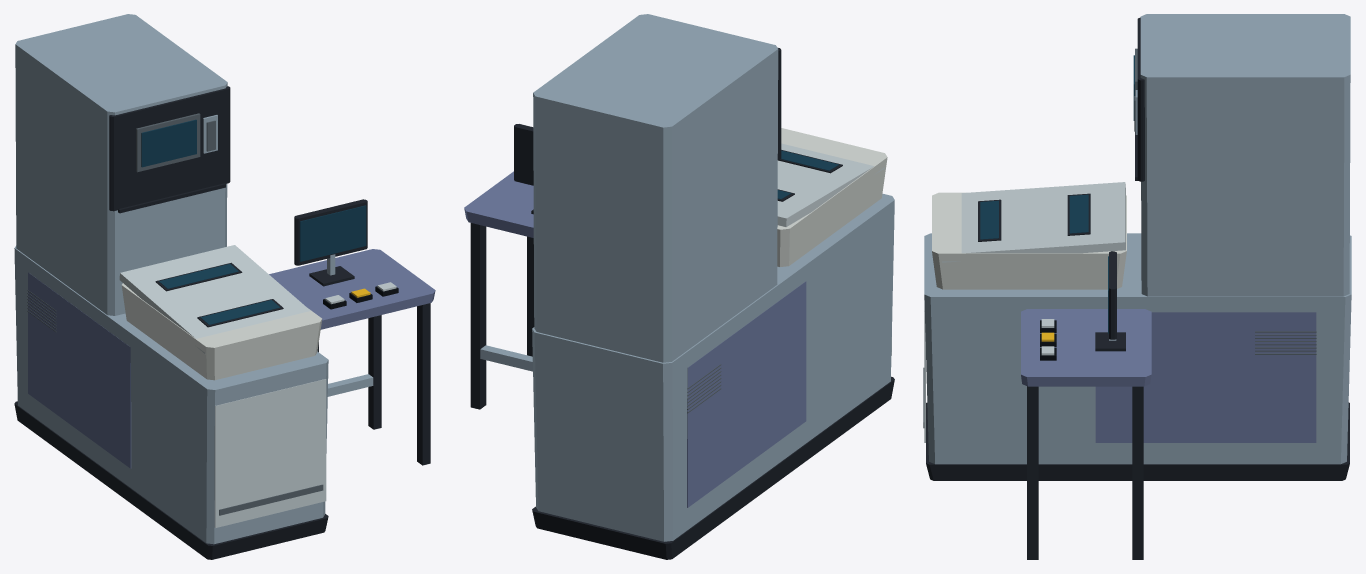
File: disco-dag810.glb
3 views of the same model, side by side, from view 1: azimuth 30°, elevation 25°; view 2: azimuth 150°, elevation 25°; view 3: azimuth 270°, elevation 25° (orthographic). The views are drawn at different scales.
Visible parts, largest first — view 1: machine_body, rear_cabinet, fixed_guard, inactive_fascia, desk, machine_base, drawing_screen; view 2: rear_cabinet, machine_body, fixed_guard, desk, machine_base, drawing_screen; view 3: machine_body, rear_cabinet, fixed_guard, desk, machine_base, inactive_fascia, drawing_screen.
Boxes of the visible parts, <box> form: machine_body: <box>14,245,328,544</box>; rear_cabinet: <box>15,14,227,315</box>; fixed_guard: <box>119,245,322,380</box>; inactive_fascia: <box>109,86,230,213</box>; desk: <box>269,249,435,465</box>; machine_base: <box>14,401,328,559</box>; drawing_screen: <box>294,199,367,265</box>; rear_cabinet: <box>533,14,778,362</box>; machine_body: <box>532,193,894,541</box>; fixed_guard: <box>777,128,887,266</box>; desk: <box>464,171,534,409</box>; machine_base: <box>532,376,894,559</box>; drawing_screen: <box>514,124,533,185</box>; machine_body: <box>923,233,1351,464</box>; rear_cabinet: <box>1140,14,1350,296</box>; fixed_guard: <box>932,182,1126,289</box>; desk: <box>1021,309,1151,559</box>; machine_base: <box>926,402,1349,480</box>; inactive_fascia: <box>1133,17,1144,181</box>; drawing_screen: <box>1108,251,1116,339</box>.
Size of the model in its own units: 1.35 by 1.78 by 1.7.
